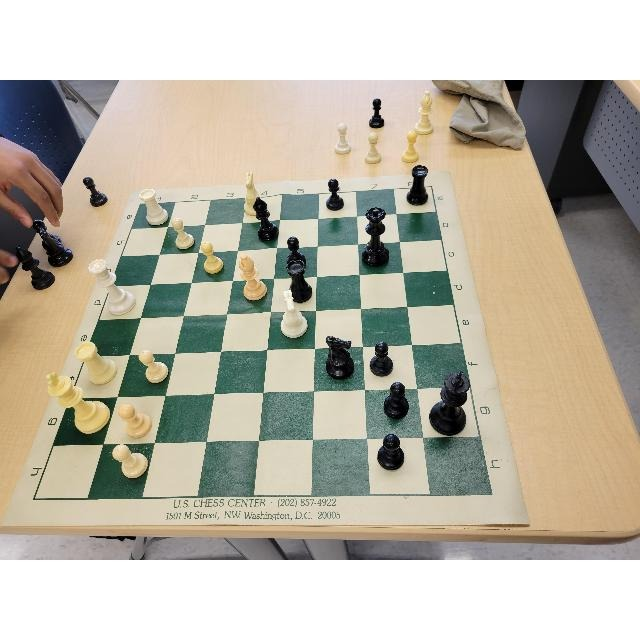black-bishop: (11, 240, 59, 297), (247, 198, 281, 244)
black-king: (428, 368, 474, 438), (429, 367, 472, 439)
black-knight: (34, 222, 76, 269), (320, 333, 356, 383)
black-pawn: (383, 380, 415, 420), (376, 432, 406, 474), (368, 341, 397, 379), (282, 232, 308, 272), (80, 175, 112, 206), (321, 177, 346, 211), (370, 92, 388, 132)
black-queen: (358, 203, 394, 273)
black-rook: (279, 259, 315, 305), (406, 163, 432, 209)
white-bishop: (239, 250, 269, 303), (412, 93, 439, 137)
white-king: (42, 370, 113, 438)
white-knight: (277, 290, 311, 340), (241, 169, 263, 216)
white-pawn: (110, 442, 148, 480), (116, 405, 158, 439), (140, 349, 166, 384), (200, 237, 222, 278), (362, 128, 383, 167), (173, 214, 194, 253), (332, 119, 353, 157), (400, 129, 420, 164)
white-queen: (83, 255, 141, 317)
white-rook: (73, 340, 118, 388), (136, 189, 174, 226)
